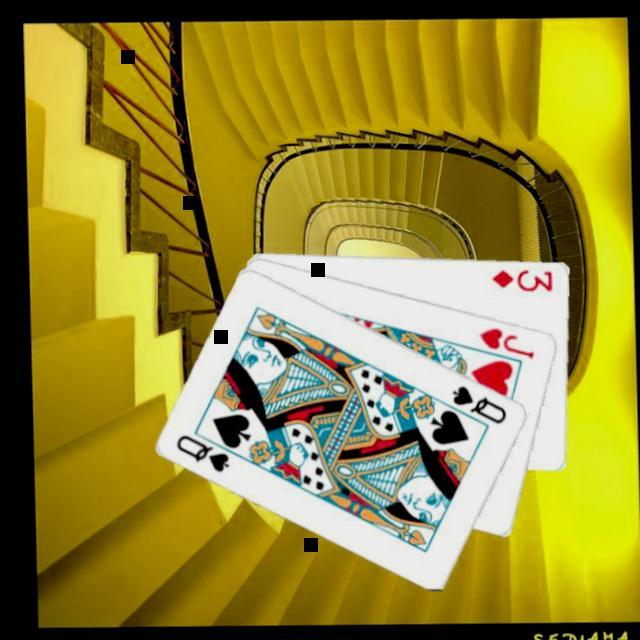3D: (486, 263, 554, 292)
JH: (474, 321, 536, 360)
QS: (447, 380, 509, 426), (172, 428, 232, 474)
